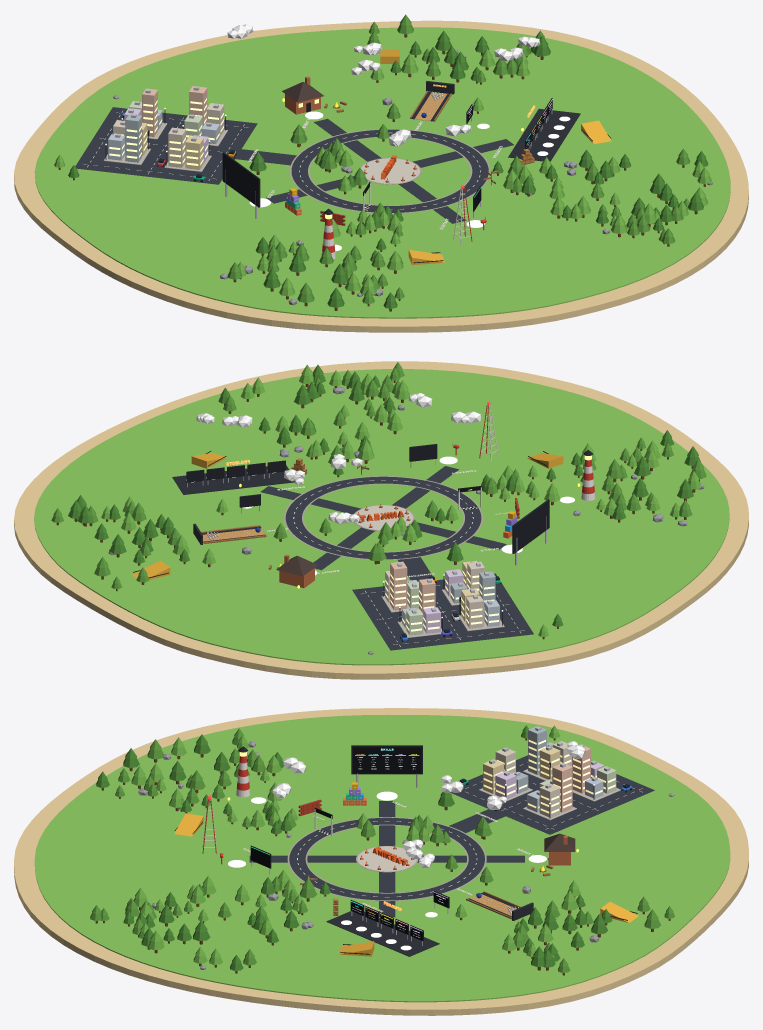
The model's file is world.glb.
3 views of the same model, one above another, from view 1: azimuth 30°, elevation 25°; view 2: azimuth 150°, elevation 25°; view 3: azimuth 270°, elevation 25° (orthographic).
Visible parts, largest first — view 1: col_grass, scenery, col_sand, bldg_13, bldg_7, bldg_9, bldg_5, bldg_2; view 2: col_grass, scenery, col_sand, bldg_2, bldg_14; view 3: col_grass, scenery, col_sand, bldg_2, bldg_13, bldg_0, bldg_9, bldg_12, bldg_4.
Part boxes in pixels (box(x1,y1,x2,y2)): col_grass: box(34, 27, 730, 318); scenery: box(54, 14, 712, 311); col_sand: box(14, 20, 748, 332); bldg_13: box(125, 114, 141, 162); bldg_7: box(168, 127, 185, 167); bldg_9: box(142, 88, 157, 136); bldg_5: box(185, 136, 203, 169); bldg_2: box(189, 86, 207, 126); col_grass: box(34, 369, 729, 665); scenery: box(51, 362, 706, 654); col_sand: box(14, 361, 748, 679); bldg_2: box(390, 561, 407, 610); bldg_14: box(466, 594, 483, 628); col_grass: box(34, 714, 730, 1002); scenery: box(90, 725, 674, 975); col_sand: box(14, 708, 748, 1015); bldg_2: box(552, 763, 572, 812); bldg_13: box(528, 726, 546, 774); bldg_0: box(539, 783, 560, 817); bldg_9: box(572, 744, 590, 793); bldg_12: box(539, 746, 560, 779); bldg_4: box(495, 771, 516, 798).
Bounding box in the file's own units: 149 × 21.89 × 153.
